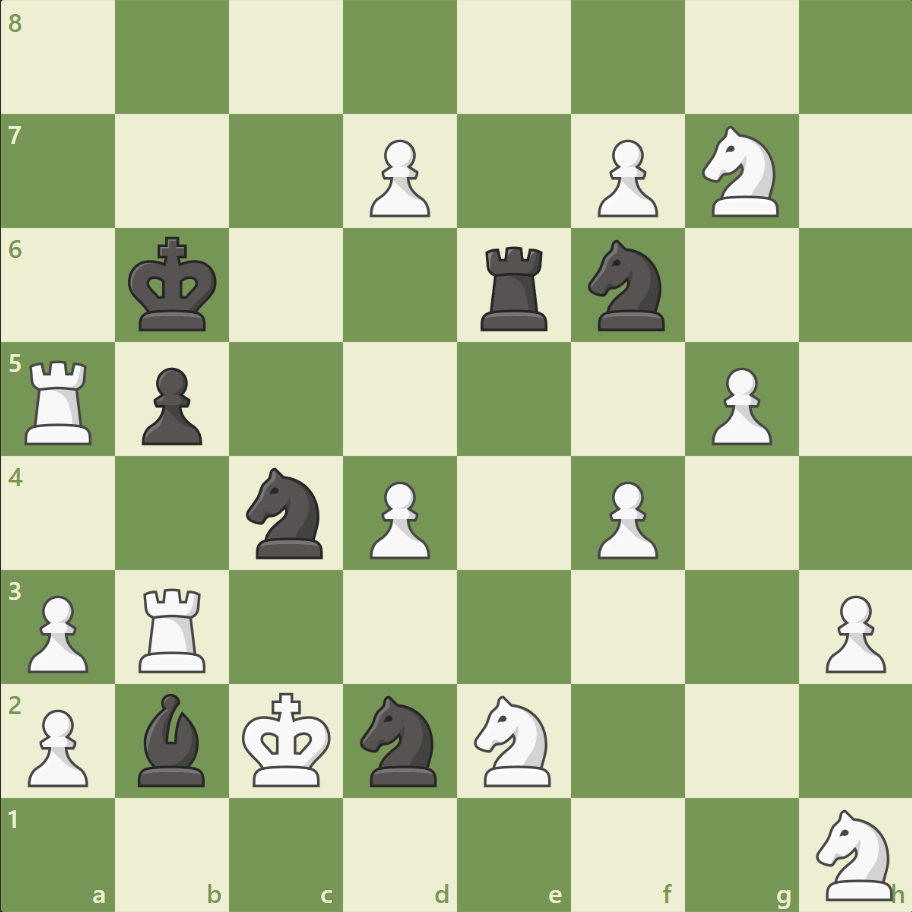K: (238, 685, 338, 793)
N: (465, 688, 562, 791), (692, 121, 789, 223), (806, 802, 903, 904)
P: (701, 359, 776, 450), (20, 586, 95, 677), (20, 700, 95, 791), (361, 132, 435, 223), (588, 132, 662, 223), (361, 473, 435, 564), (588, 473, 662, 564), (815, 586, 889, 677)
R: (19, 352, 102, 449), (133, 579, 215, 676)
b: (131, 687, 215, 790)
k: (124, 231, 224, 339)
n: (351, 688, 449, 791), (579, 234, 676, 337), (238, 461, 335, 564)
p: (133, 359, 208, 450)
r: (473, 239, 556, 336)
